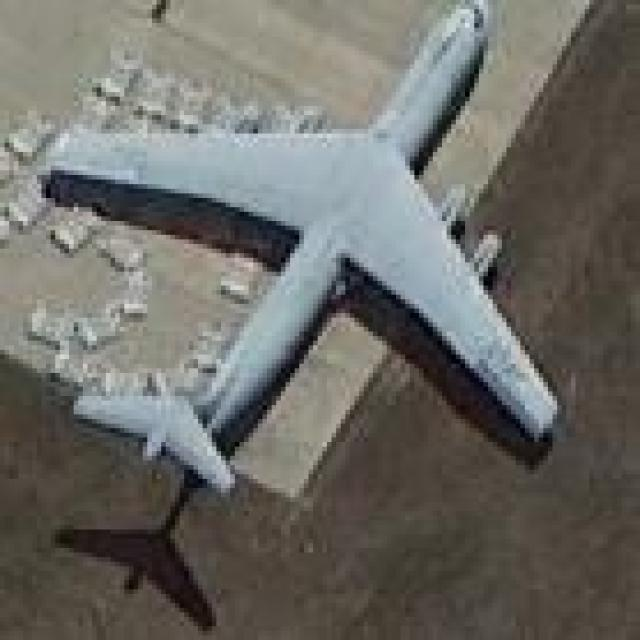C-5_TopDown: (32, 0, 566, 502)
